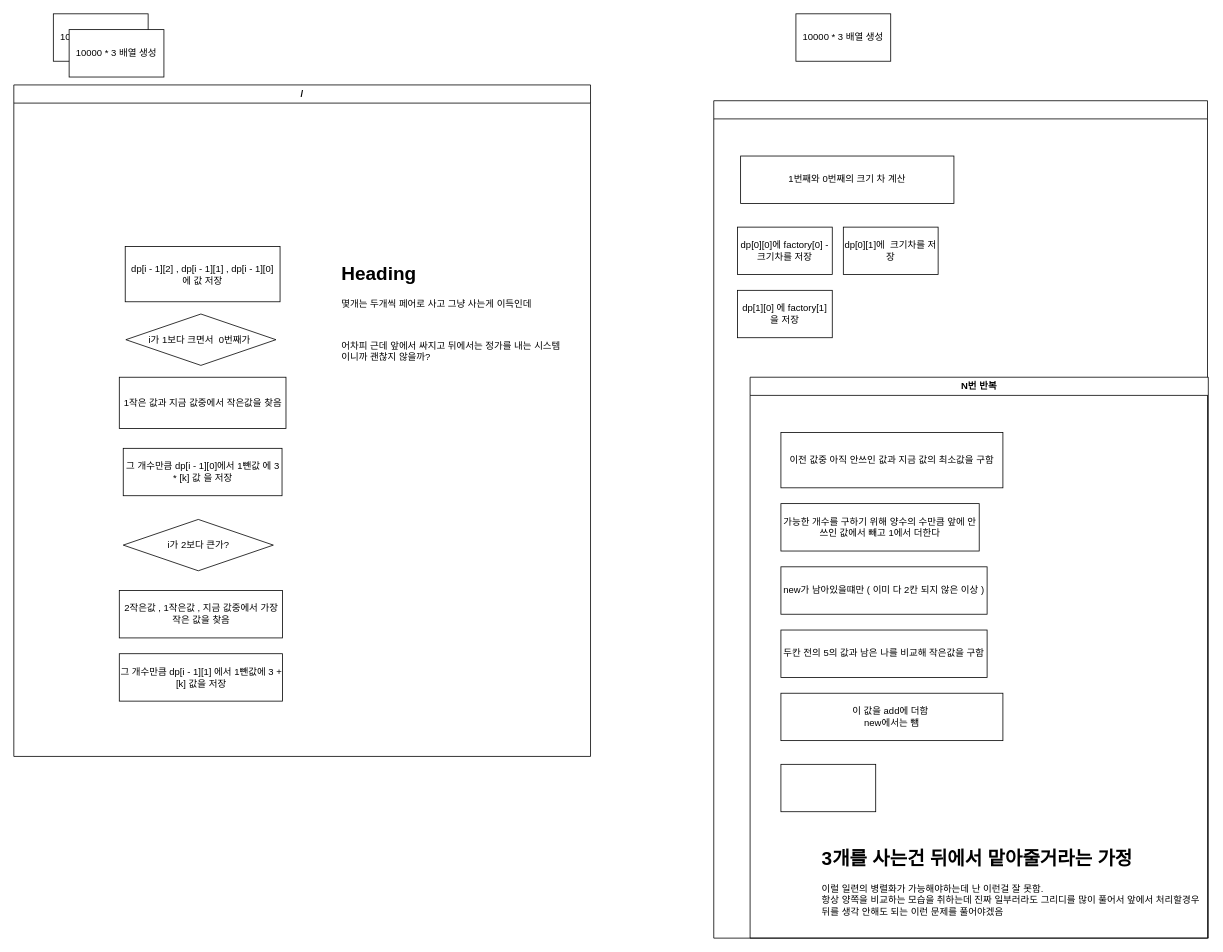
This 1223x952 diagram has some shape labels left out. The shapes that lost their labels are listed below. From the top down, each one's box as (x1, y1, x2, y2) in pixels, then its label:
(713, 100, 1208, 938): Vertical Container
(780, 764, 876, 812): new가 남아있다면 자신의 0에 new를 설정
